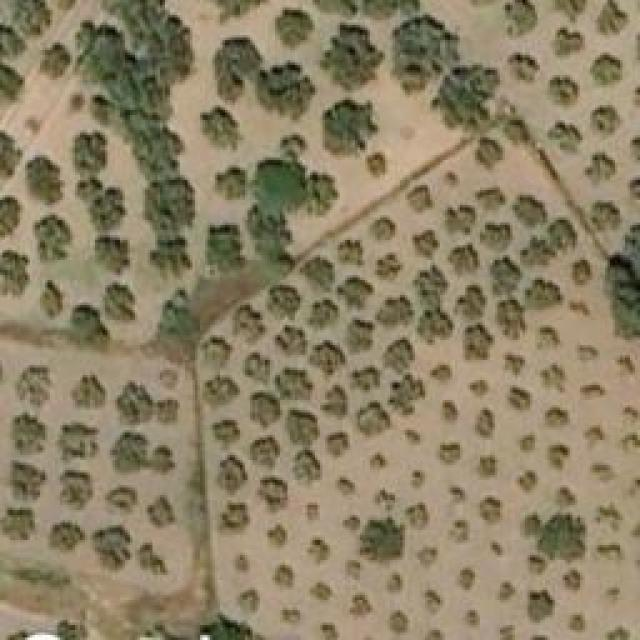Tree: (440, 65, 498, 130), (393, 18, 446, 88), (8, 413, 48, 503), (323, 25, 383, 83), (603, 252, 638, 340), (257, 60, 315, 113), (215, 38, 263, 101), (322, 100, 370, 160), (250, 208, 295, 271), (535, 510, 588, 563), (75, 22, 123, 80), (258, 150, 308, 205), (153, 297, 196, 355), (147, 180, 195, 228), (135, 128, 185, 171), (25, 155, 68, 203), (55, 420, 100, 465), (200, 105, 243, 150), (360, 518, 403, 563), (35, 213, 73, 263), (207, 225, 245, 273), (68, 130, 108, 175), (580, 148, 623, 188), (8, 0, 53, 38), (387, 373, 425, 418), (90, 188, 128, 233), (150, 237, 193, 275), (15, 365, 53, 408), (523, 233, 568, 268), (335, 275, 375, 313), (310, 340, 348, 380), (98, 525, 131, 570), (275, 10, 313, 48), (0, 250, 30, 298), (218, 500, 251, 543), (58, 470, 93, 510), (300, 255, 335, 295), (115, 383, 150, 423), (95, 237, 130, 275), (73, 305, 108, 343), (248, 390, 283, 428), (375, 295, 415, 328), (523, 278, 563, 311), (383, 335, 416, 375), (103, 283, 136, 323), (505, 0, 538, 38), (275, 368, 313, 401), (420, 307, 453, 345), (288, 410, 323, 445), (218, 455, 248, 495), (48, 523, 88, 553), (490, 255, 520, 295), (498, 300, 528, 340), (590, 53, 623, 88), (548, 123, 583, 156), (73, 375, 106, 410), (0, 508, 35, 541), (273, 325, 308, 358), (513, 195, 548, 228), (40, 42, 70, 80), (458, 282, 488, 320), (235, 303, 263, 343), (310, 173, 338, 213), (545, 75, 578, 108), (308, 298, 341, 331), (347, 317, 375, 355), (527, 587, 555, 625), (295, 450, 323, 488), (598, 0, 628, 35), (590, 103, 620, 138), (258, 478, 288, 513), (355, 400, 385, 435), (110, 433, 140, 468), (0, 132, 22, 177), (443, 205, 476, 235), (448, 245, 481, 275), (250, 435, 280, 468), (548, 218, 578, 251), (465, 325, 495, 358), (200, 380, 233, 410), (320, 385, 348, 420), (0, 194, 22, 237), (242, 353, 270, 386), (202, 338, 230, 371), (417, 268, 445, 301), (553, 28, 583, 58), (510, 53, 540, 83), (265, 285, 295, 315), (148, 493, 173, 528), (412, 230, 440, 260), (145, 442, 175, 470), (475, 138, 503, 168), (405, 185, 435, 213), (590, 200, 618, 230), (480, 223, 513, 248), (105, 485, 138, 510), (550, 0, 587, 22), (43, 280, 63, 320), (337, 240, 365, 268), (375, 252, 403, 280), (405, 502, 433, 530), (217, 170, 245, 198), (350, 365, 378, 393), (595, 502, 623, 530), (210, 417, 238, 445), (140, 545, 165, 575), (505, 115, 530, 145), (568, 260, 593, 288), (153, 397, 178, 425), (478, 495, 503, 523), (475, 188, 505, 211), (503, 345, 526, 375), (543, 363, 566, 393), (548, 443, 571, 473), (370, 218, 398, 241), (508, 385, 531, 413), (308, 537, 331, 565), (545, 403, 570, 428), (235, 585, 260, 610), (475, 408, 495, 438), (58, 618, 88, 638), (590, 463, 615, 486), (273, 565, 296, 590), (438, 443, 461, 466), (448, 520, 471, 543), (525, 553, 548, 576), (268, 523, 288, 548), (580, 383, 605, 403), (518, 470, 538, 495), (455, 568, 475, 593), (280, 608, 305, 628), (365, 153, 385, 178), (520, 513, 540, 538), (390, 610, 410, 635), (618, 350, 638, 375), (618, 430, 638, 455), (430, 363, 453, 383), (328, 433, 348, 456), (585, 425, 605, 448), (350, 593, 370, 616), (555, 488, 578, 508), (233, 553, 253, 576), (425, 590, 443, 615), (578, 345, 601, 363), (415, 547, 438, 565), (565, 568, 583, 591), (598, 542, 621, 560), (478, 458, 498, 478), (568, 615, 588, 635), (443, 400, 458, 425), (370, 453, 388, 473), (517, 433, 535, 453), (385, 573, 403, 593), (313, 582, 333, 600), (497, 583, 515, 603), (337, 477, 355, 495), (447, 485, 465, 503), (305, 503, 320, 523), (498, 625, 518, 640), (410, 470, 425, 488), (465, 610, 480, 628), (445, 173, 460, 188), (625, 405, 640, 418)
